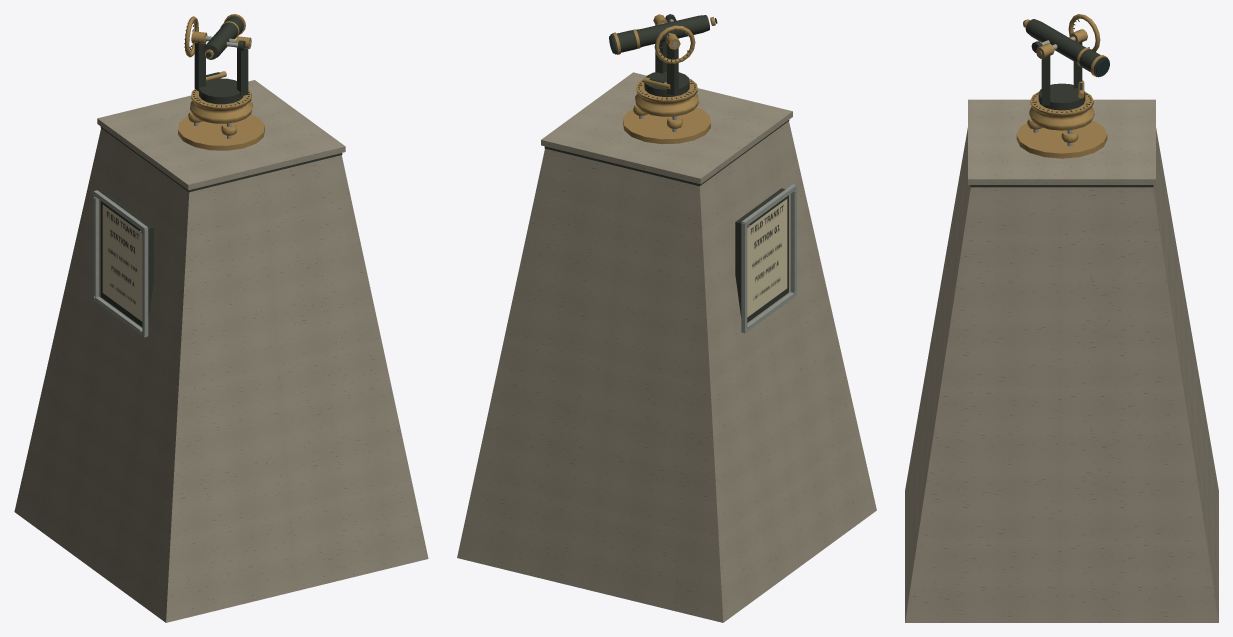
The model's file is SM_FieldKit_Transit_LOD1.glb.
The picture shows the model from 3 angles, left to right: view 1: azimuth 30°, elevation 25°; view 2: azimuth 150°, elevation 25°; view 3: azimuth 270°, elevation 25°; orthographic projection. The views are drawn at different scales.
Parts seen in each view (by area): view 1: SM_FieldKit_Transit_LOD1; view 2: SM_FieldKit_Transit_LOD1; view 3: SM_FieldKit_Transit_LOD1.
Part boxes in pixels (x1,y1,x2,y2): SM_FieldKit_Transit_LOD1: [14, 14, 428, 622]; SM_FieldKit_Transit_LOD1: [457, 14, 876, 622]; SM_FieldKit_Transit_LOD1: [905, 14, 1218, 622].
Size of the model in its own units: 0.9 by 1.68 by 0.9.
6 materials, 3 textured.
